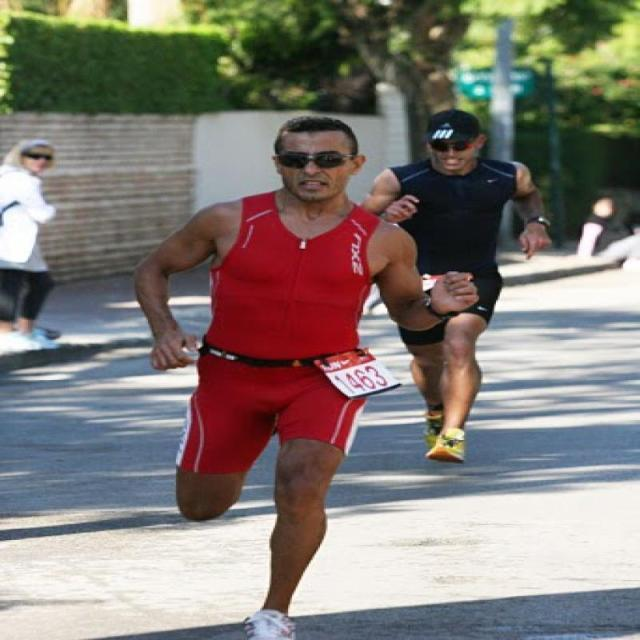dorsal: (309, 347, 409, 398)
